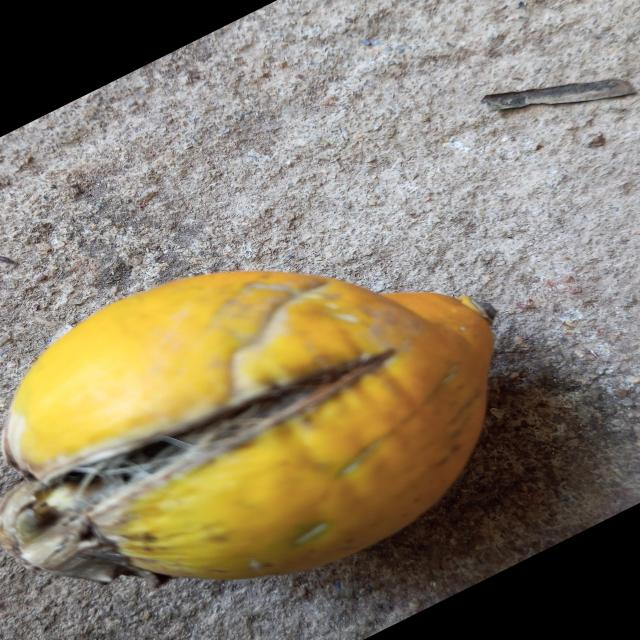damaged: (0, 272, 494, 587)
